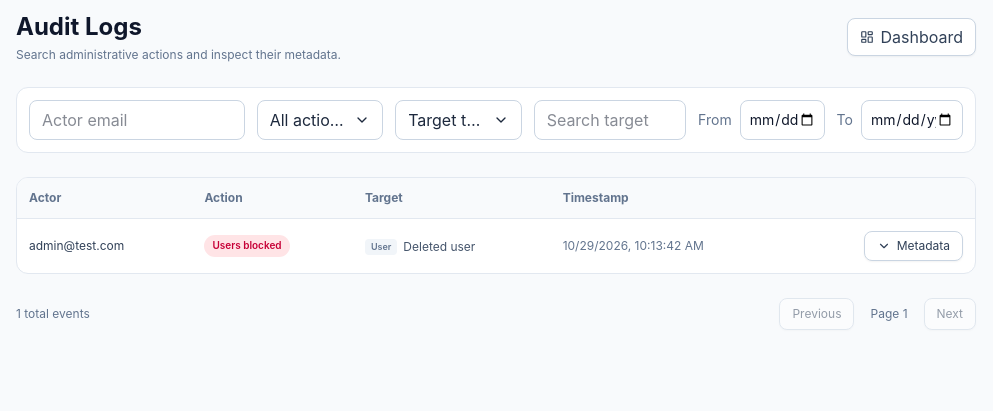
Test case: AdminAuditLogsPage › renders log rows and metadata toggle when logs are present
Expected: the text "admin@test.com" is shown, [29,238,124,254]
Expected: the text "Users blocked" is shown, [204,235,290,257]
Click the button "Metadata": (913, 246) [864,231,963,261]
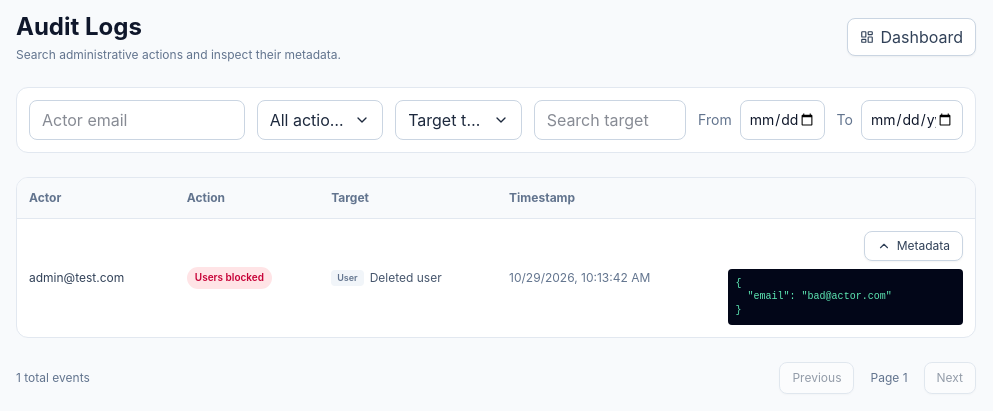
Now the text "{ \"email\": \"bad@actor.com\" }" is shown, box [728,269,963,325]
